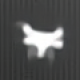plane: (15, 20, 68, 61)
